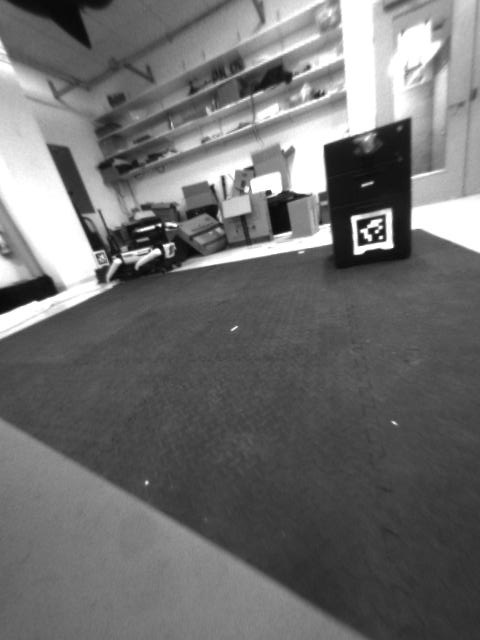door_handle: (440, 96, 467, 114)
drawer: (344, 128, 386, 162)
